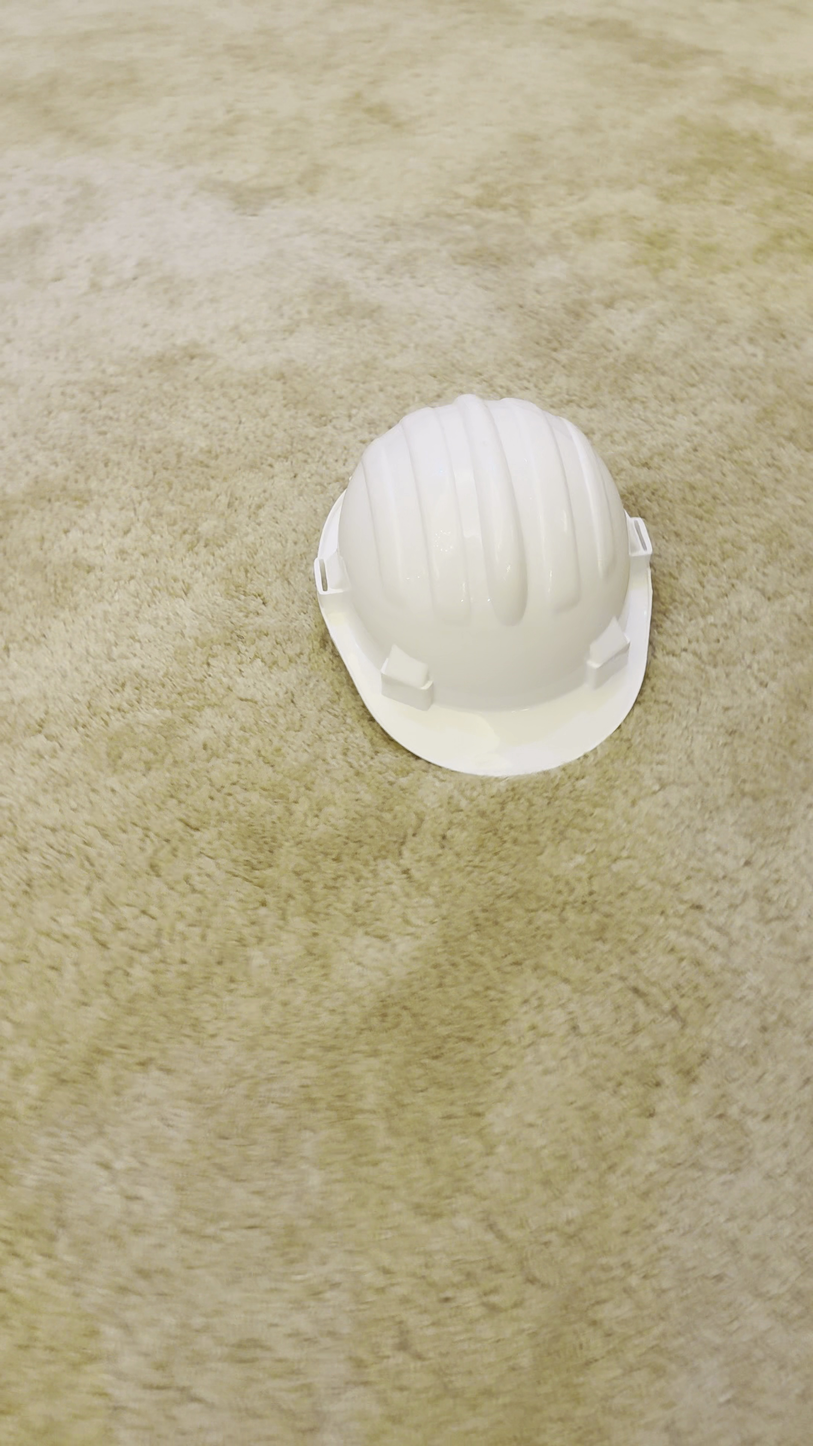safety_helmet: (311, 391, 655, 779)
